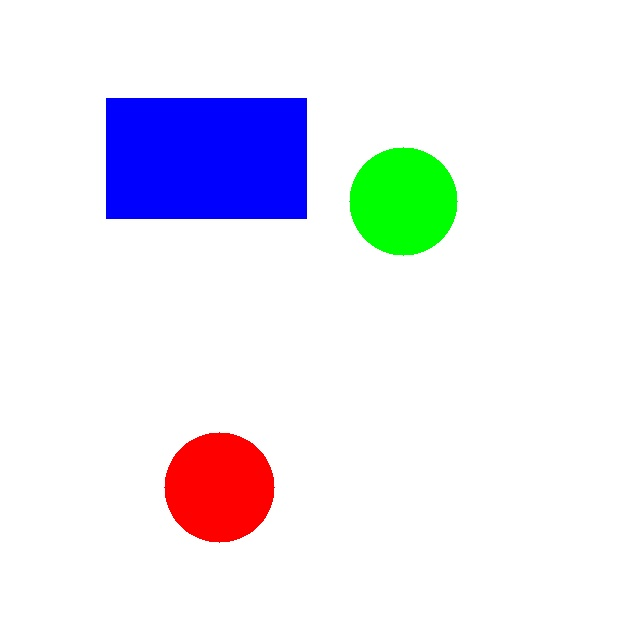cartao: (106, 98, 306, 218)
rosca_externa: (349, 147, 457, 255)
rosca_interna: (164, 432, 274, 542)
